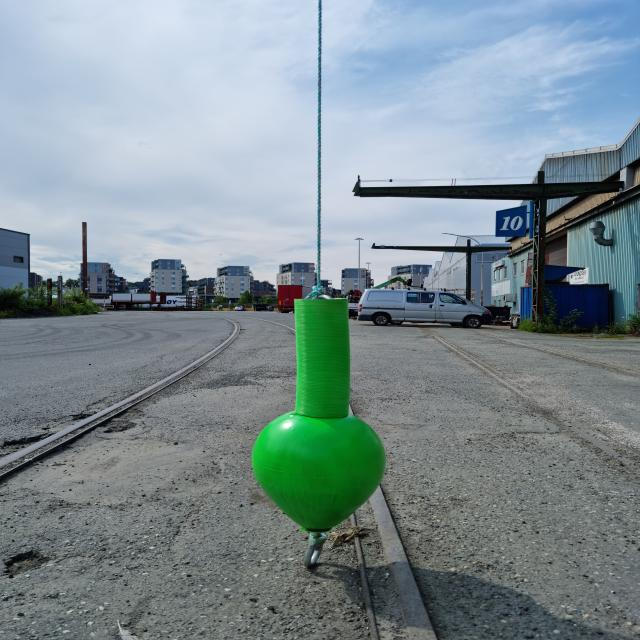green: (253, 298, 389, 532)
